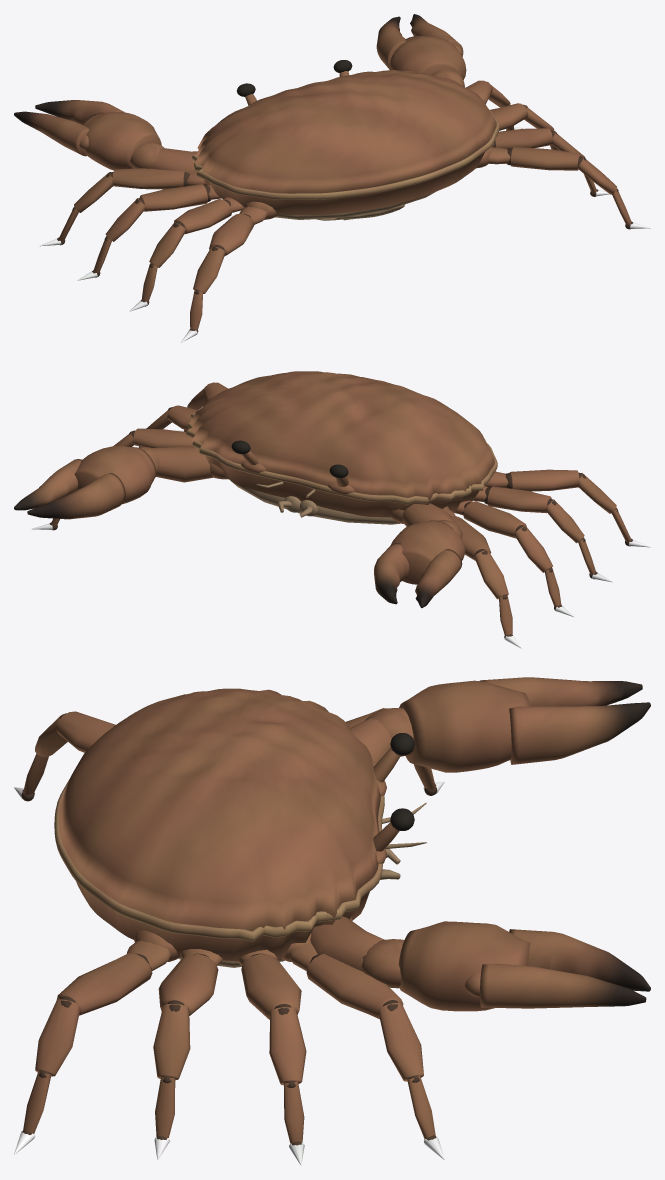
The model's file is CustomCrab-surface-r1.fbx.
3 views of the same model, one above another, from view 1: azimuth 30°, elevation 25°; view 2: azimuth 150°, elevation 25°; view 3: azimuth 270°, elevation 25° (orthographic). The views are drawn at different scales.
Visible parts, largest first — view 1: CarapacePart / surface 0, Claw_LPart / surface 0, Claw_RPart / surface 0, Leg_L_3Part / surface 0, Leg_R_3Part / surface 0, Leg_L_0Part / surface 0, Leg_L_2Part / surface 0, Leg_L_1Part / surface 0, CarapacePart / surface 5, Claw_LPart / DactylHinge / surface 0, Leg_R_2Part / surface 0, Leg_R_1Part / surface 0 (+4 smaller); view 2: CarapacePart / surface 0, Claw_RPart / surface 0, Claw_LPart / surface 0, Leg_L_1Part / surface 0, Leg_L_3Part / surface 0, Leg_L_2Part / surface 0, CarapacePart / surface 5, Leg_L_0Part / surface 0, BodyCore | protected fixed mounts / surface 1, Claw_LPart / DactylHinge / surface 0, Claw_RPart / DactylHinge / surface 0, Leg_R_1Part / surface 0 (+4 smaller); view 3: CarapacePart / surface 0, Claw_LPart / surface 0, Claw_RPart / surface 0, Leg_R_3Part / surface 0, Leg_R_0Part / surface 0, Leg_R_1Part / surface 0, Leg_R_2Part / surface 0, Claw_RPart / DactylHinge / surface 0, CarapacePart / surface 5, Claw_LPart / DactylHinge / surface 0, Leg_L_3Part / surface 0, BodyCore | protected fixed mounts / surface 0 (+2 smaller).
Boxes of the visible parts, box(x1,y1,x2,y2) form: CarapacePart / surface 0: box(194, 69, 496, 214); Claw_LPart / surface 0: box(35, 100, 197, 173); Claw_RPart / surface 0: box(376, 16, 466, 87); Leg_L_3Part / surface 0: box(190, 206, 267, 330); Leg_R_3Part / surface 0: box(488, 146, 631, 224); Leg_L_0Part / surface 0: box(59, 168, 206, 241); Leg_L_2Part / surface 0: box(141, 197, 244, 302); Leg_L_1Part / surface 0: box(94, 184, 220, 273); CarapacePart / surface 5: box(192, 102, 499, 199); Claw_LPart / DactylHinge / surface 0: box(14, 111, 89, 156); Leg_R_2Part / surface 0: box(491, 128, 596, 192); Leg_R_1Part / surface 0: box(490, 103, 558, 150); CarapacePart / surface 0: box(188, 371, 494, 517); Claw_RPart / surface 0: box(27, 445, 212, 519); Claw_LPart / surface 0: box(374, 503, 465, 604); Leg_L_1Part / surface 0: box(454, 500, 561, 607); Leg_L_3Part / surface 0: box(486, 469, 630, 542); Leg_L_2Part / surface 0: box(473, 485, 595, 575); CarapacePart / surface 5: box(186, 413, 497, 504); Leg_L_0Part / surface 0: box(443, 509, 512, 635); BodyCore | protected fixed mounts / surface 1: box(230, 480, 400, 524); Claw_LPart / DactylHinge / surface 0: box(415, 549, 462, 607); Claw_RPart / DactylHinge / surface 0: box(14, 459, 81, 510); Leg_R_1Part / surface 0: box(114, 428, 193, 447); CarapacePart / surface 0: box(58, 688, 380, 961); Claw_LPart / surface 0: box(350, 680, 650, 772); Claw_RPart / surface 0: box(310, 916, 650, 1011); Leg_R_3Part / surface 0: box(23, 940, 171, 1133); Leg_R_0Part / surface 0: box(288, 942, 435, 1139); Leg_R_1Part / surface 0: box(237, 949, 306, 1143); Leg_R_2Part / surface 0: box(153, 949, 222, 1138); Claw_RPart / DactylHinge / surface 0: box(480, 963, 646, 1008); CarapacePart / surface 5: box(54, 763, 384, 941); Claw_LPart / DactylHinge / surface 0: box(479, 677, 642, 706); Leg_L_3Part / surface 0: box(23, 711, 115, 794); BodyCore | protected fixed mounts / surface 0: box(134, 747, 400, 961).
Bounding box in the file's own units: 411 × 116 × 284.
